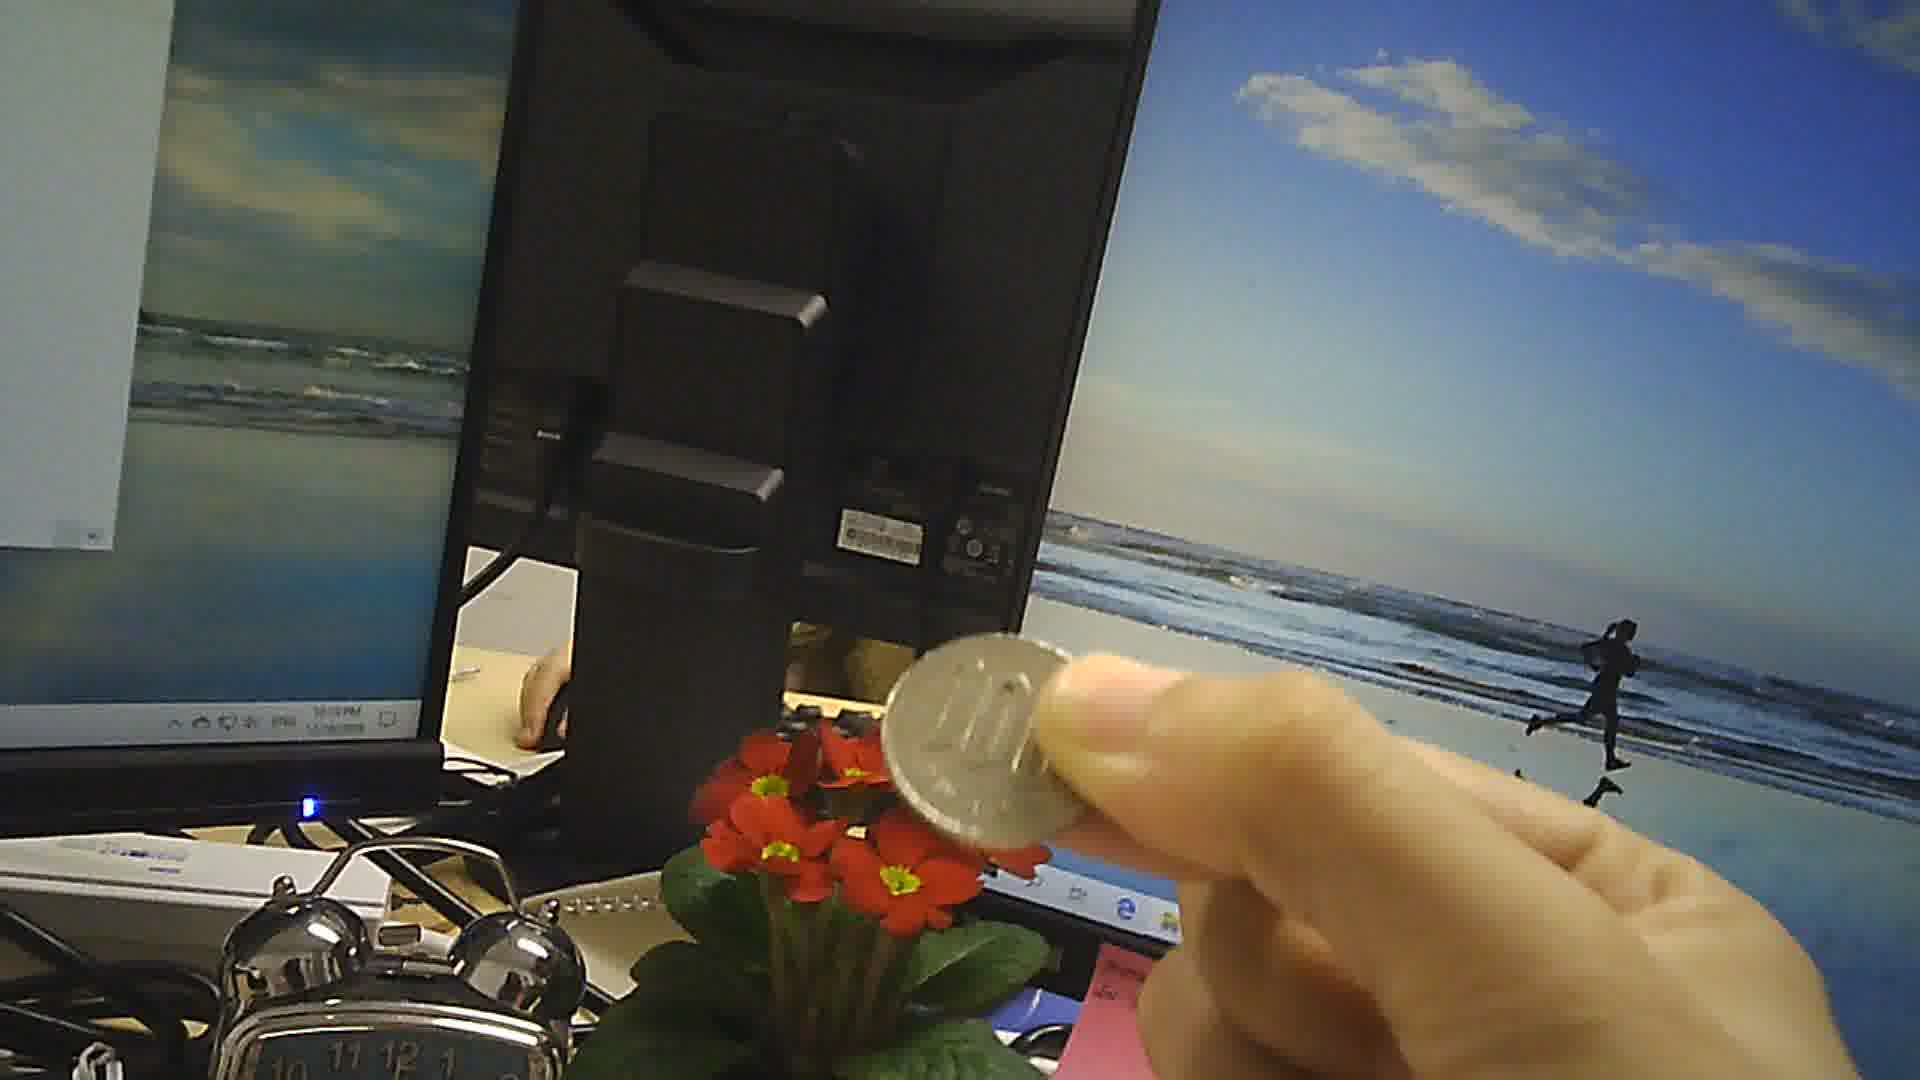100 Yen: (880, 632, 1110, 868)
